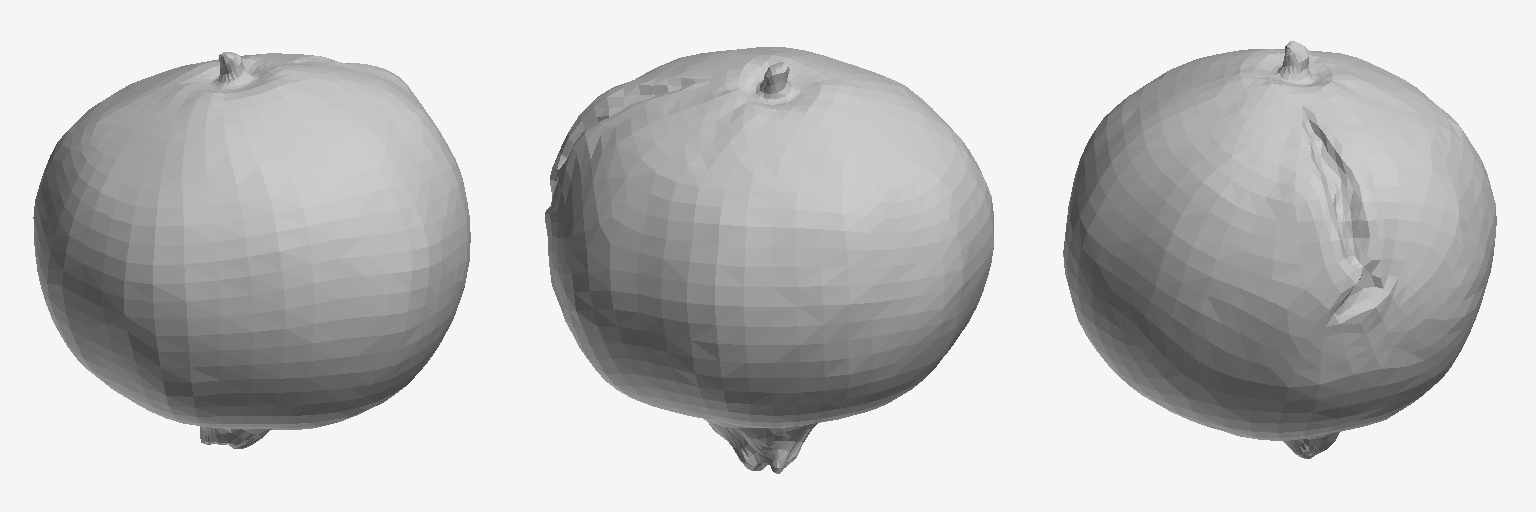
Rendered from pomegranate.obj.
3 views of the same model, side by side, from view 1: azimuth 30°, elevation 25°; view 2: azimuth 150°, elevation 25°; view 3: azimuth 270°, elevation 25° (orthographic).
Visible parts, largest first — view 1: Pomegranate; view 2: Pomegranate; view 3: Pomegranate.
Boxes of the visible parts, box(x1,y1,x2,y2) form: Pomegranate: box(33, 52, 470, 448); Pomegranate: box(545, 47, 993, 473); Pomegranate: box(1063, 41, 1496, 458).
Size of the model in its own units: 1 by 1 by 0.9681.